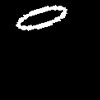chain: (16, 5, 66, 30)
